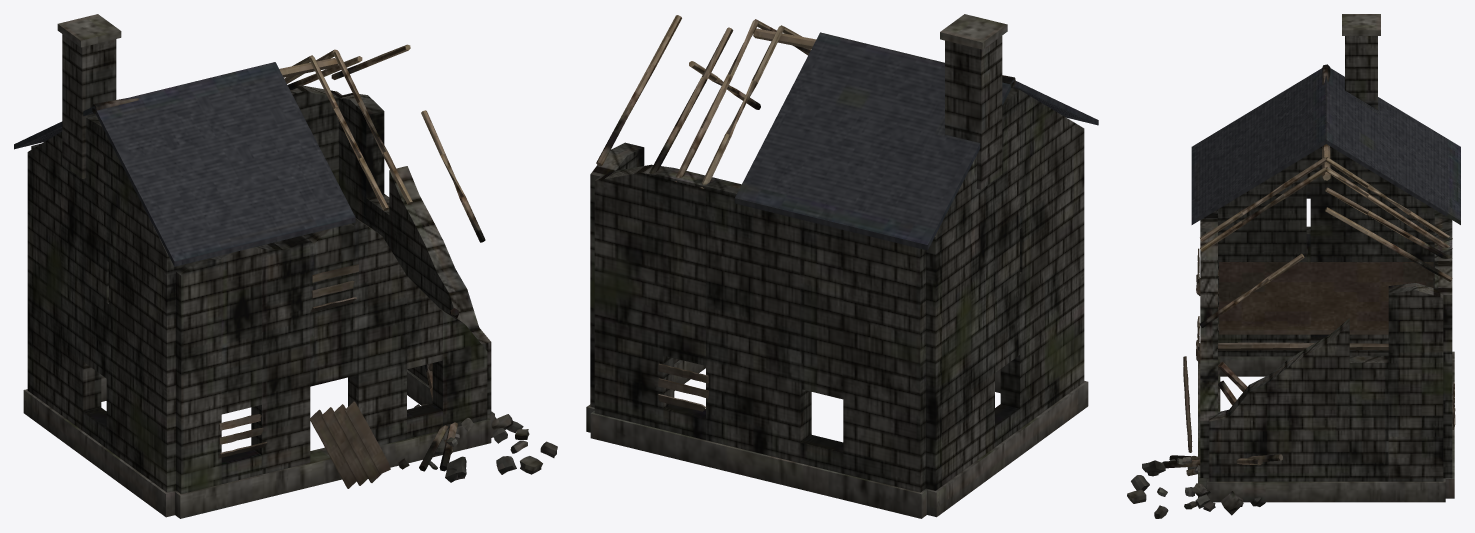
File: house_ruin_a.glb
3 renders of one model, left to right at view 1: azimuth 30°, elevation 25°; view 2: azimuth 150°, elevation 25°; view 3: azimuth 270°, elevation 25°, orthographic. The views are drawn at different scales.
Parts seen in each view (by area): view 1: house_ruin_a; view 2: house_ruin_a; view 3: house_ruin_a.
Boxes of the visible parts, bbox=[...] form: house_ruin_a: bbox=[14, 14, 557, 518]; house_ruin_a: bbox=[586, 14, 1098, 518]; house_ruin_a: bbox=[1127, 14, 1460, 518].
Bounding box in the file's own units: 9.15 × 10.16 × 8.56.
1 material, 1 textured.
